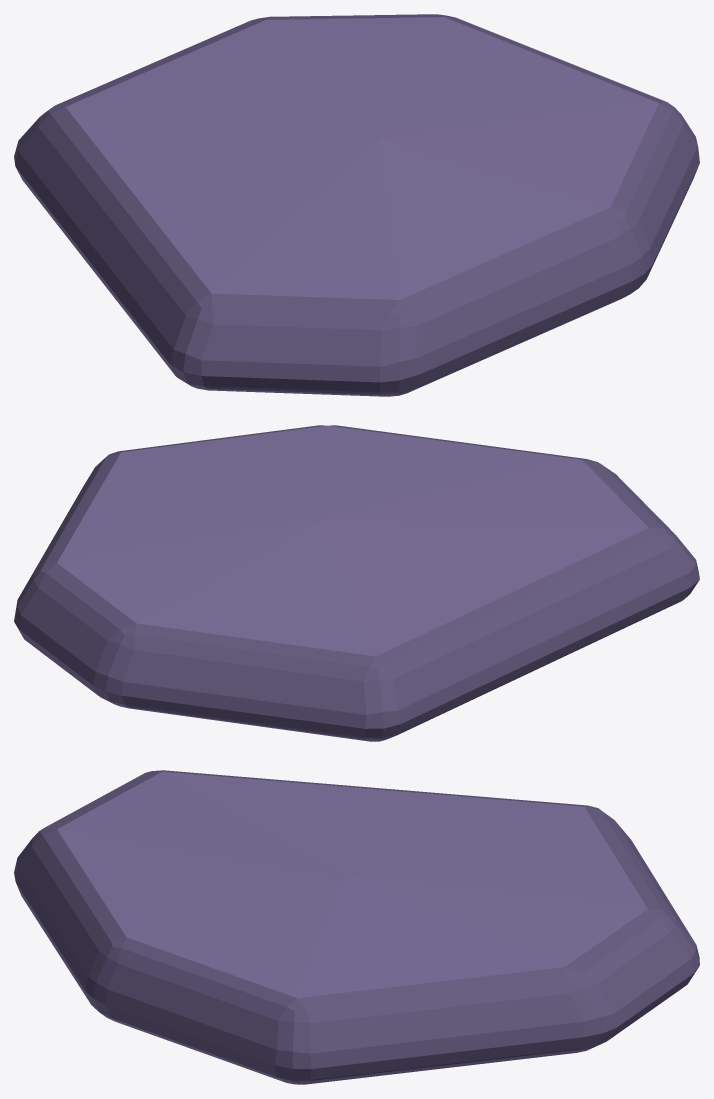
Rendered from flat_shard_02.glb.
3 views of the same model, one above another, from view 1: azimuth 30°, elevation 25°; view 2: azimuth 150°, elevation 25°; view 3: azimuth 270°, elevation 25° (orthographic). The views are drawn at different scales.
Visible parts, largest first — view 1: flat_shard_02; view 2: flat_shard_02; view 3: flat_shard_02.
Part boxes in pixels (x1,y1,x2,y2): flat_shard_02: (14,14,699,396); flat_shard_02: (14,425,699,741); flat_shard_02: (14,770,699,1084).
Size of the model in its own units: 0.547 by 0.0901 by 0.5788.
